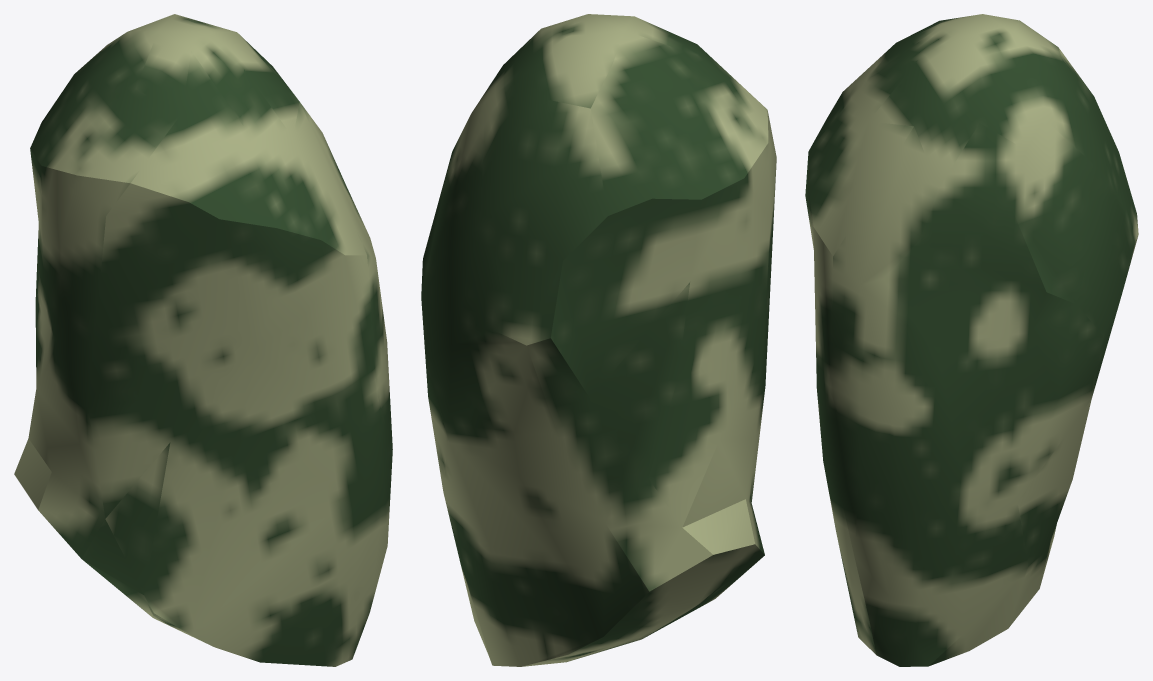
The model's file is link_leg_1_L_1.obj.
3 renders of one model, left to right at view 1: azimuth 30°, elevation 25°; view 2: azimuth 150°, elevation 25°; view 3: azimuth 270°, elevation 25°, orthographic. The views are drawn at different scales.
Visible parts, largest first — view 1: link_leg_1_L_1; view 2: link_leg_1_L_1; view 3: link_leg_1_L_1.
Boxes of the visible parts, left/top/right/bottom form: link_leg_1_L_1: left=14, top=14, right=392, bottom=666; link_leg_1_L_1: left=421, top=14, right=776, bottom=666; link_leg_1_L_1: left=805, top=14, right=1138, bottom=666.
Bounding box in the file's own units: 4.72 × 9.26 × 4.79.
